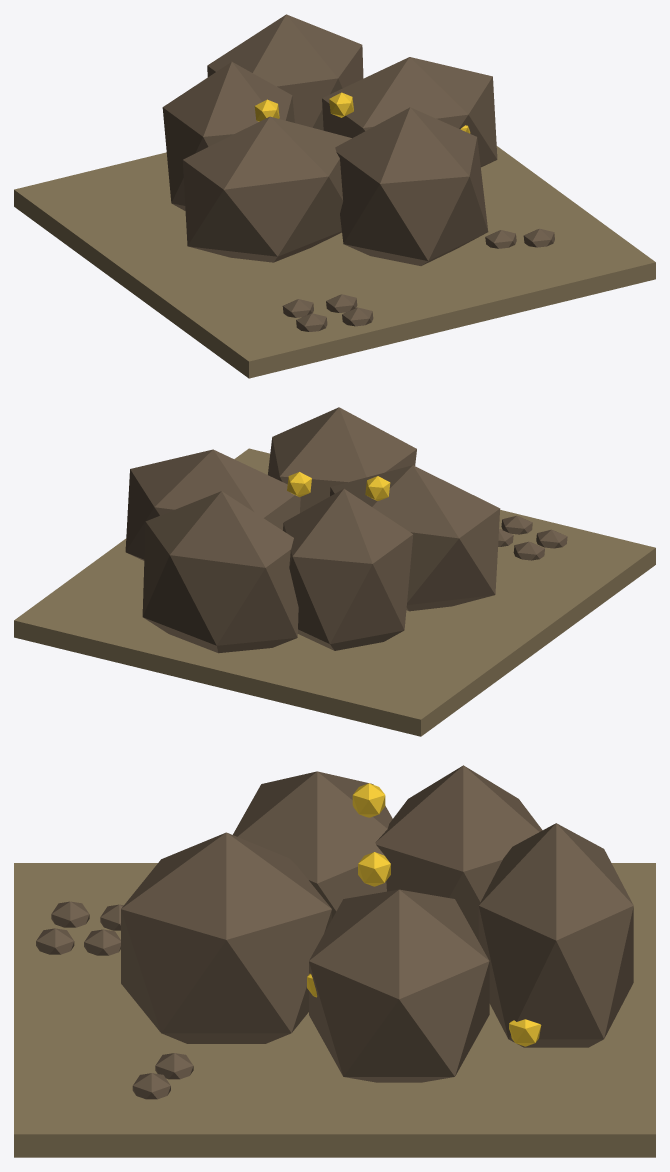
Rendered from Deposit_Gold_Mining.fbx.
The picture shows the model from 3 angles, top to bottom: view 1: azimuth 30°, elevation 25°; view 2: azimuth 150°, elevation 25°; view 3: azimuth 270°, elevation 25°; orthographic projection. The views are drawn at different scales.
Parts seen in each view (by area): view 1: Deposit_Gold_Mining_Body; view 2: Deposit_Gold_Mining_Body; view 3: Deposit_Gold_Mining_Body.
Part boxes in pixels (x1=…): Deposit_Gold_Mining_Body: x1=14, y1=14, x2=655, y2=378; Deposit_Gold_Mining_Body: x1=14, y1=407, x2=655, y2=736; Deposit_Gold_Mining_Body: x1=14, y1=765, x2=655, y2=1157.
Size of the model in its own units: 1 by 0.416 by 1.
